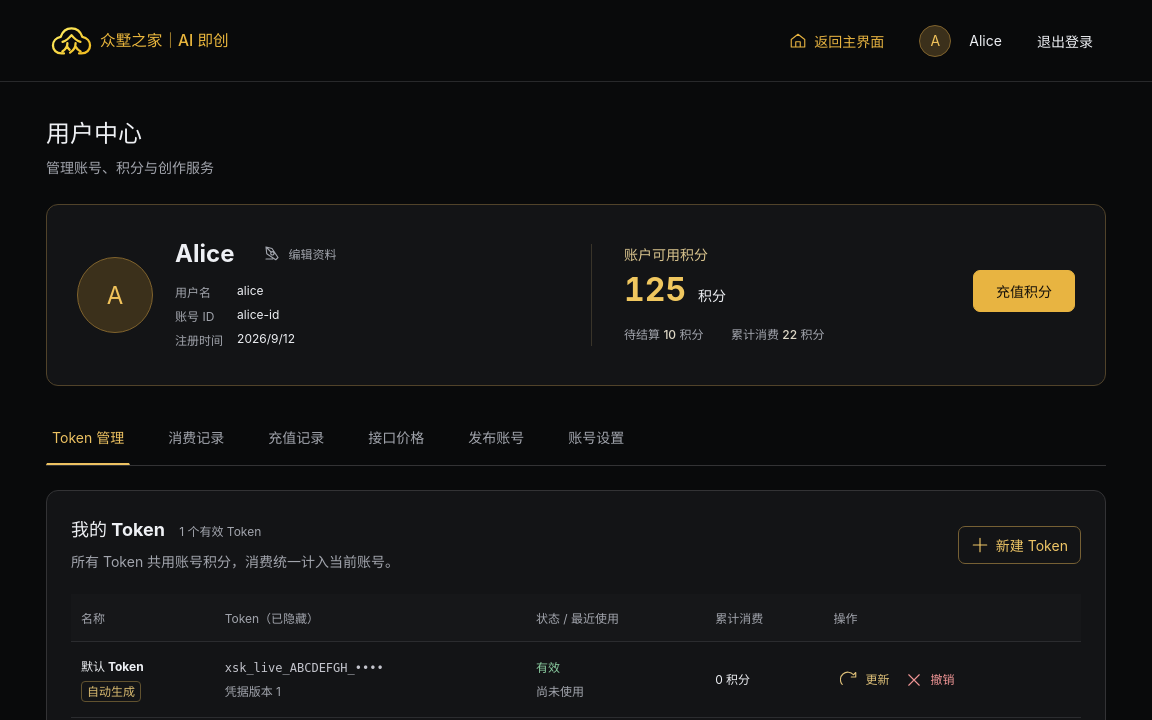
opening account records refreshes a balance changed by an administrator
Expected: the text "125" is shown, [624,270,686,309]
Click the tab "消费记录". click: point(196, 438)
box: [162,410,230,465]
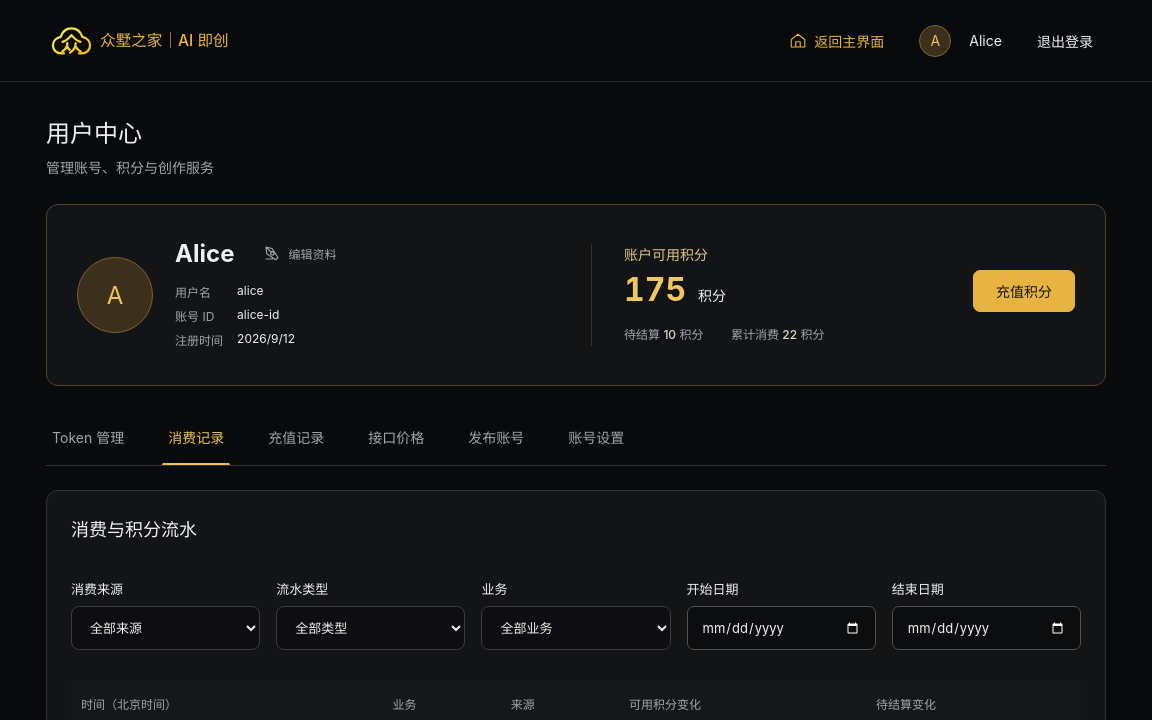
Now the text "175" is shown, box [624,270,686,309]
Now the text "125" is gone
